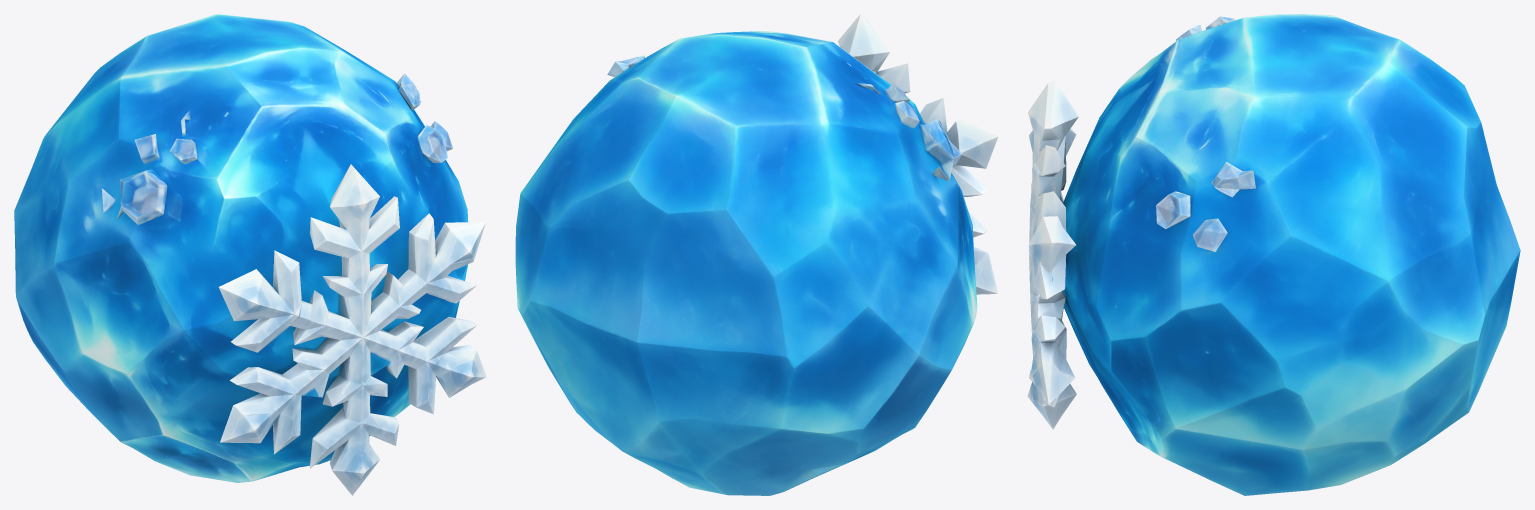
The picture shows the model from 3 angles, left to right: view 1: azimuth 30°, elevation 25°; view 2: azimuth 150°, elevation 25°; view 3: azimuth 270°, elevation 25°; orthographic projection. The views are drawn at different scales.
Parts seen in each view (by area): view 1: model; view 2: model; view 3: model.
Boxes of the visible parts, x1=… form: model: x1=14, y1=14, x2=486, y2=495; model: x1=515, y1=14, x2=998, y2=495; model: x1=1027, y1=14, x2=1520, y2=495.
Bounding box in the file's own units: 1.81 × 1.84 × 1.87.
1 material, 1 textured.
